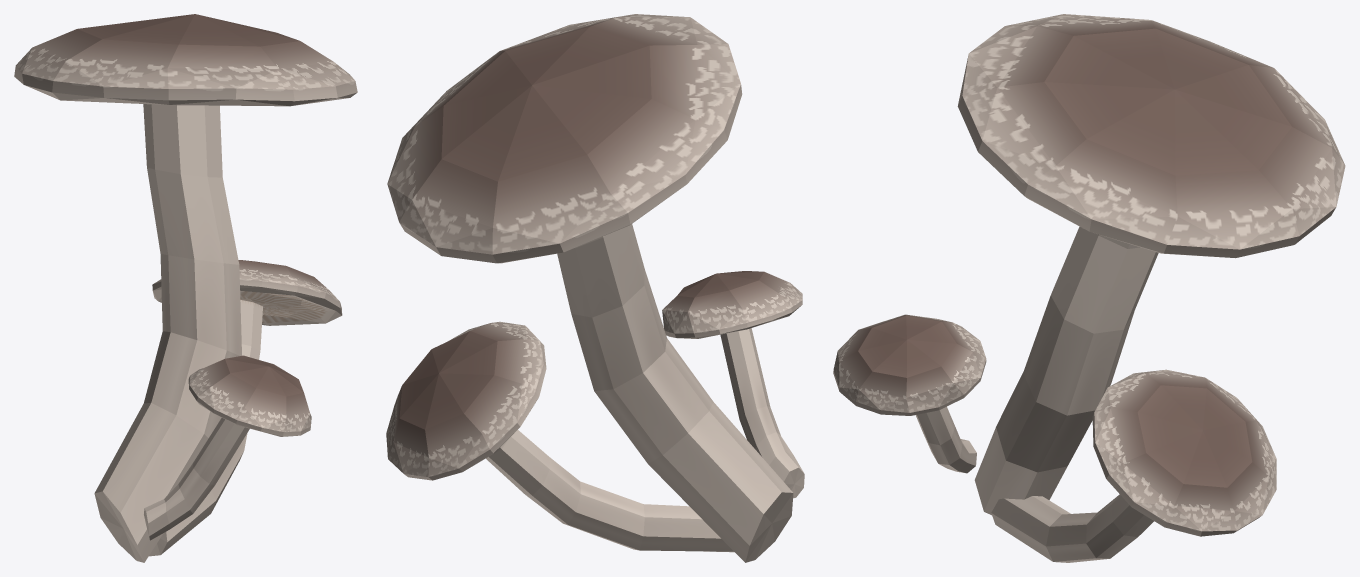
Rendered from shiitakeGroup3.fbx.
3 renders of one model, left to right at view 1: azimuth 30°, elevation 25°; view 2: azimuth 150°, elevation 25°; view 3: azimuth 270°, elevation 25°, orthographic. The views are drawn at different scales.
Visible parts, largest first — view 1: shiitakeGroup3; view 2: shiitakeGroup3; view 3: shiitakeGroup3.
Boxes of the visible parts, x1=… form: shiitakeGroup3: x1=14, y1=14, x2=357, y2=562; shiitakeGroup3: x1=386, y1=14, x2=804, y2=562; shiitakeGroup3: x1=833, y1=14, x2=1345, y2=562.
Bounding box in the file's own units: 16.61 × 25.97 × 22.91.
